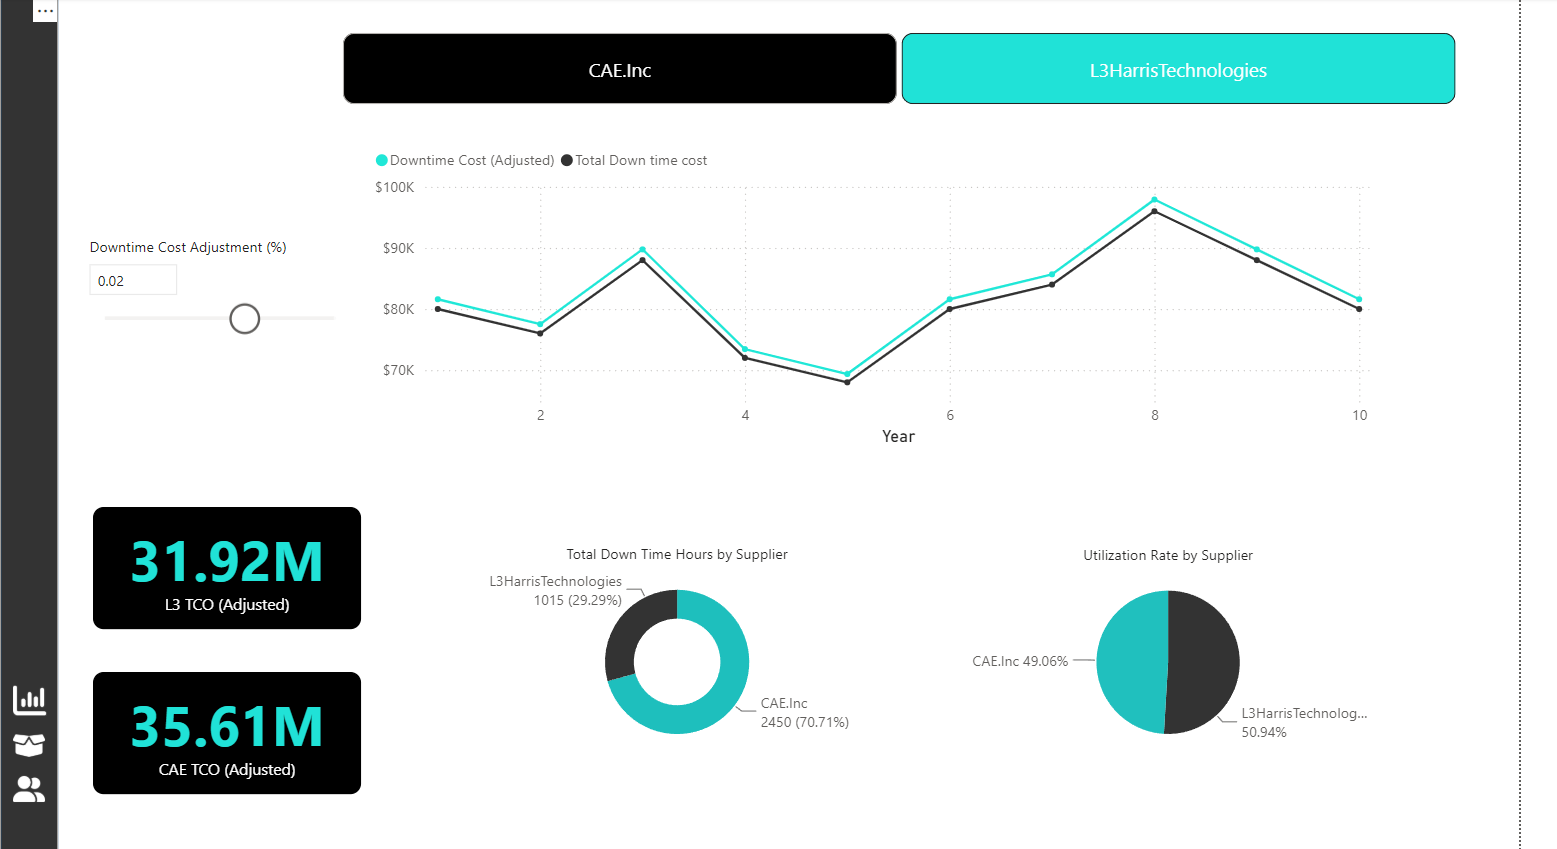

The dashboard page shown, as its layout file describes it:
{"tool":"powerbi","page":{"name":"Risk & Sensitivity Analysis","canvas":[1280,720],"ordinal":2},"visuals":[{"type":"shape","box":[0,0,49.1,720.4],"z":0},{"type":"pieChart","title":"Utilization Rate by Supplier","fields":{"Category":["Supplier_data.Supplier_name"],"Y":["Year.Utilization Rate"]},"box":[809.6,461.1,350.9,181.8],"z":1000},{"type":"donutChart","title":"Total Down Time Hours by Supplier","fields":{"Category":["Supplier_data.Supplier_name"],"Y":["Year.Total downtime Hours"]},"box":[395.3,460.6,350.9,182.9],"z":2000},{"type":"slicer","fields":{"Values":["Parameter.Parameter"]},"box":[62.4,196.6,242,107.8],"z":3000},{"type":"lineChart","fields":{"Category":["Year.Year"],"Y":["Year.Downtime Cost (Adjusted)","Year.Total Down time cost"]},"box":[310.8,117.3,849.8,265.3],"z":4000},{"type":"card","fields":{"Values":["Year.TCO (Adjusted)"]},"box":[78.2,429.1,226.2,102.5],"z":5000},{"type":"card","fields":{"Values":["Year.CAE TCO (Adjusted)"]},"box":[78.2,568.7,226.2,102.5],"z":6000},{"type":"advancedSlicerVisual","title":"Suppliers","fields":{"Values":["Supplier_data.Supplier_name"]},"box":[284.3,24.3,949.2,70.8],"z":7000},{"type":"image","box":[11.1,575.8,27.6,33.1],"z":8000},{"type":"image","box":[11.4,613.5,27,33],"z":9000},{"type":"image","box":[11.1,651.1,27.5,32.8],"z":10000}]}

Visuals, with their boxes on the page's 1280x720 design canvas (x1, y1, x2, y2). These are canvas units, not pixel positions in the 1557x849 screenshot, which may show the page scaled, cropped or inside an application window:
shape: 0,0,49,720
"Utilization Rate by Supplier" pieChart: 810,461,1160,643
"Total Down Time Hours by Supplier" donutChart: 395,461,746,644
slicer - Parameter.Parameter: 62,197,304,304
lineChart - Year.Year x Year.Downtime Cost (Adjusted): 311,117,1161,383
card - Year.TCO (Adjusted): 78,429,304,532
card - Year.CAE TCO (Adjusted): 78,569,304,671
"Suppliers" advancedSlicerVisual: 284,24,1234,95
image: 11,576,39,609
image: 11,614,38,646
image: 11,651,39,684
